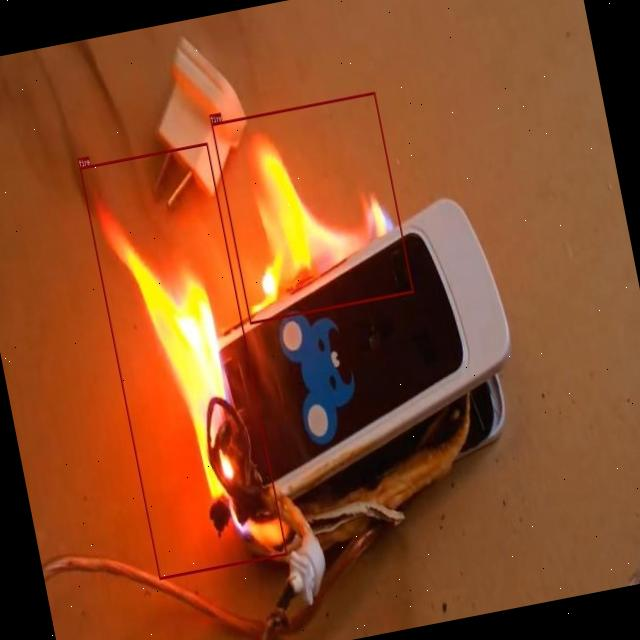fire: (80, 142, 288, 580), (212, 92, 414, 324)
